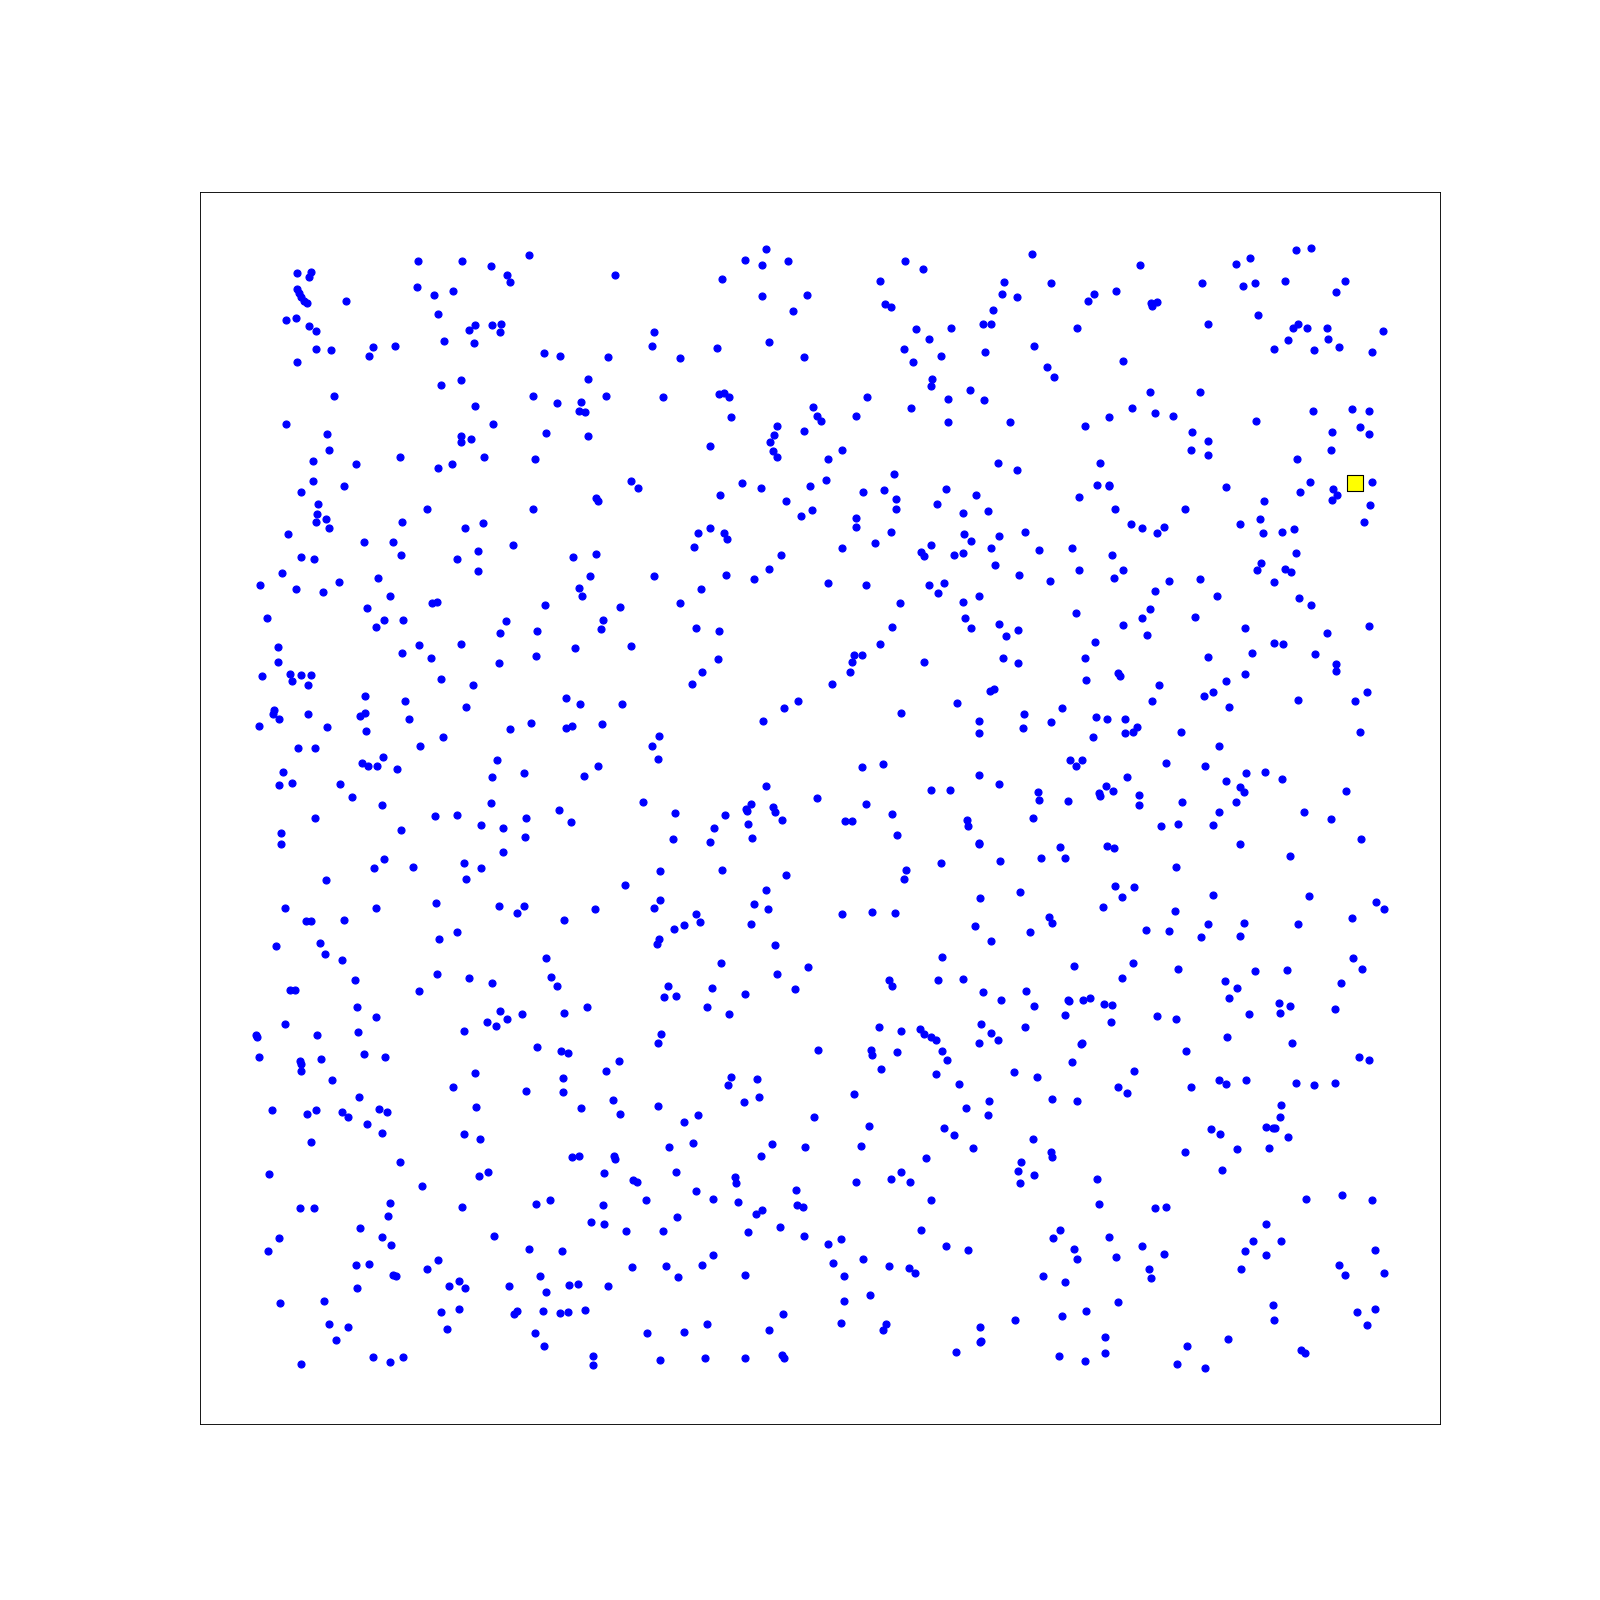

The dashboard page shown, as its layout file describes it:
{"tool":"tableau","page":{"name":"Dashboard 1","canvas":[1000,1000],"units":"permille","ordinal":0},"visuals":[{"type":"worksheet","title":"Sheet 3","mark":"Line","rows":["spearman_per_year"],"cols":["Year_as_format"],"box":[15.2,29.2,453.5,943.9]}]}

Visuals, with their boxes on the dashboard's canvas, which has no fixed pixel size, in thousandths of its width and height (x1, y1, x2, y2). These are canvas units, not pixel positions in the 1600x1600 screenshot, which may show the page scaled, cropped or inside an application window:
"Sheet 3" worksheet (Line marks): x1=15, y1=29, x2=469, y2=973
